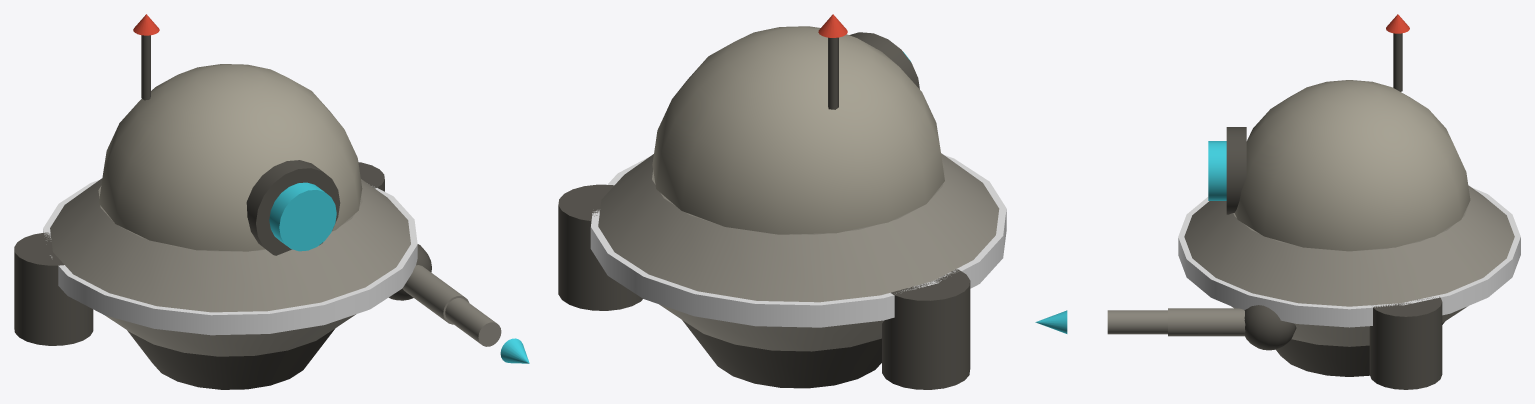
3 renders of one model, left to right at view 1: azimuth 30°, elevation 25°; view 2: azimuth 150°, elevation 25°; view 3: azimuth 270°, elevation 25°, orthographic. The views are drawn at different scales.
Parts seen in each view (by area): view 1: dweller_robot_drone; view 2: dweller_robot_drone; view 3: dweller_robot_drone.
Part boxes in pixels (bbox=[...]): dweller_robot_drone: bbox=[14, 14, 529, 389]; dweller_robot_drone: bbox=[558, 14, 1006, 389]; dweller_robot_drone: bbox=[1035, 14, 1520, 389].
Bounding box in the file's own units: 0.94 × 0.84 × 1.2.
